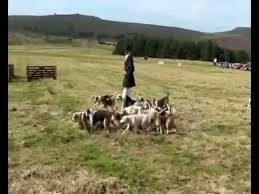sheep: (85, 106, 113, 133), (118, 111, 150, 133), (71, 111, 90, 132), (91, 92, 113, 109)
